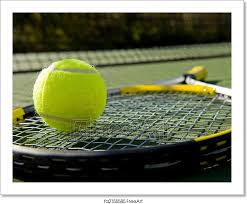tennis_ball: (31, 59, 106, 134)
